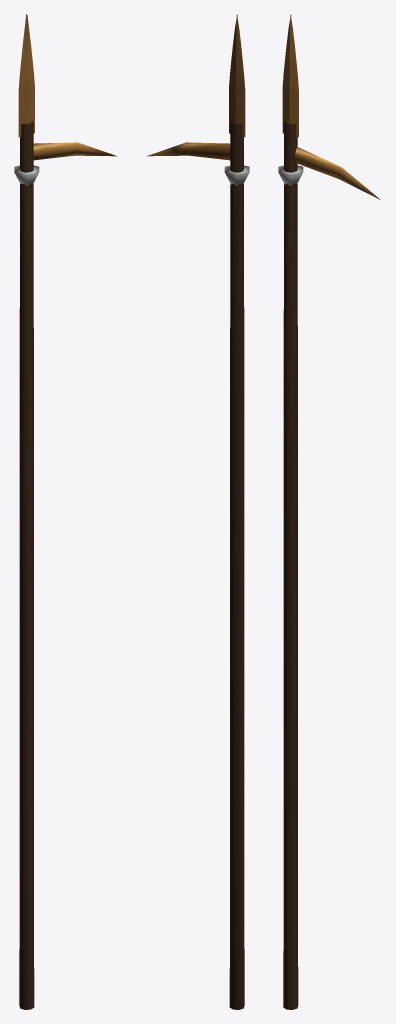
3 views of the same model, side by side, from view 1: azimuth 30°, elevation 25°; view 2: azimuth 150°, elevation 25°; view 3: azimuth 330°, elevation 25° (orthographic).
Parts seen in each view (by area): view 1: ji; view 2: ji; view 3: ji.
Boxes of the visible parts, bbox=[...] form: ji: bbox=[14, 14, 116, 1009]; ji: bbox=[147, 14, 249, 1009]; ji: bbox=[278, 14, 380, 1009].
Bounding box in the file's own units: 0.25 × 2.3 × 0.052.
1 material, 1 textured.
